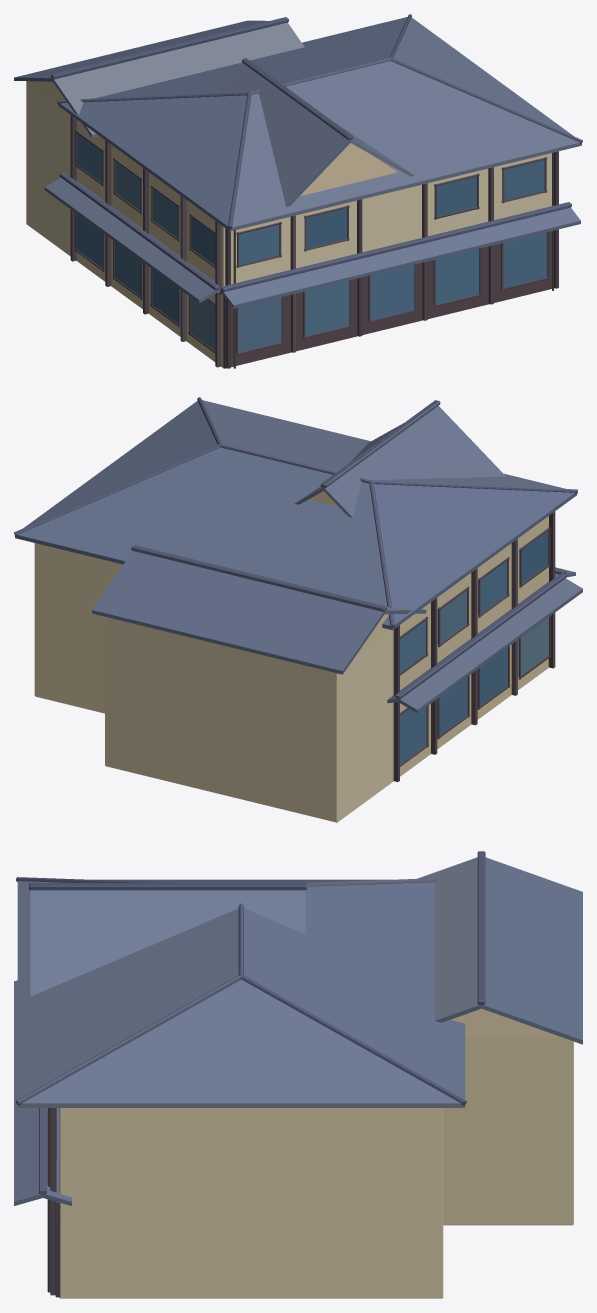
Rendered from ART_WestCorner.lod.glb.
The picture shows the model from 3 angles, top to bottom: view 1: azimuth 30°, elevation 25°; view 2: azimuth 150°, elevation 25°; view 3: azimuth 270°, elevation 25°; orthographic projection. The views are drawn at different scales.
Parts seen in each view (by area): view 1: ART_WestCorner; view 2: ART_WestCorner; view 3: ART_WestCorner.
Boxes of the visible parts, bbox=[...] form: ART_WestCorner: bbox=[14, 14, 582, 368]; ART_WestCorner: bbox=[14, 397, 582, 822]; ART_WestCorner: bbox=[14, 851, 582, 1298].
Bounding box in the file's own units: 15.41 × 8.44 × 15.7.
